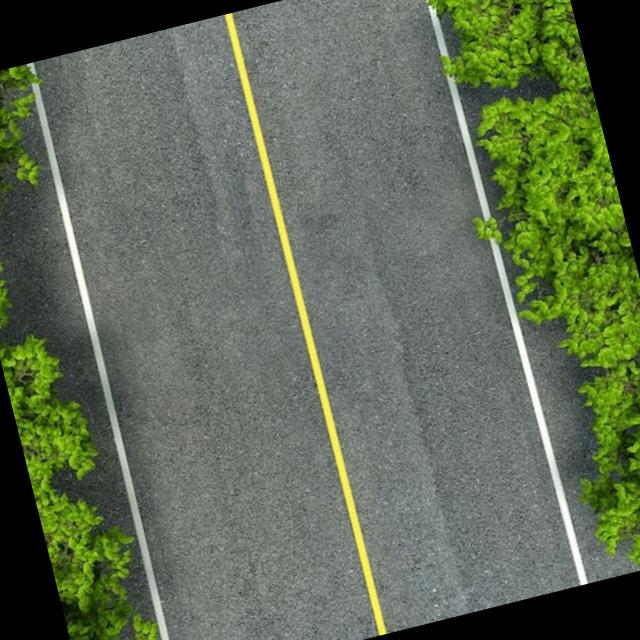asphalt: (0, 0, 625, 640)
grass: (428, 0, 640, 570), (0, 333, 157, 640)
